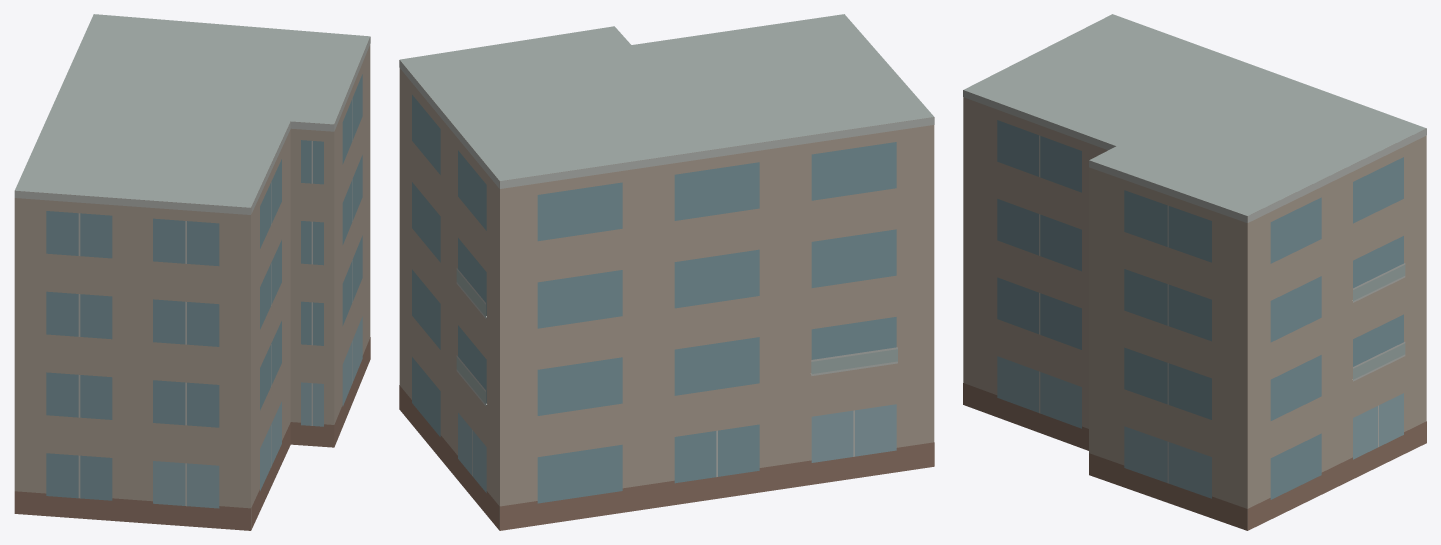
The model's file is survey-upis-32657958.glb.
3 renders of one model, left to right at view 1: azimuth 30°, elevation 25°; view 2: azimuth 150°, elevation 25°; view 3: azimuth 270°, elevation 25°, orthographic. The views are drawn at different scales.
Visible parts, largest first — view 1: survey-upis-32657958.tmp; view 2: survey-upis-32657958.tmp; view 3: survey-upis-32657958.tmp.
Boxes of the visible parts, bbox=[...] form: survey-upis-32657958.tmp: bbox=[14, 14, 370, 530]; survey-upis-32657958.tmp: bbox=[399, 14, 934, 530]; survey-upis-32657958.tmp: bbox=[963, 14, 1426, 530].
Size of the model in its own units: 14.88 by 10.8 by 14.42.
